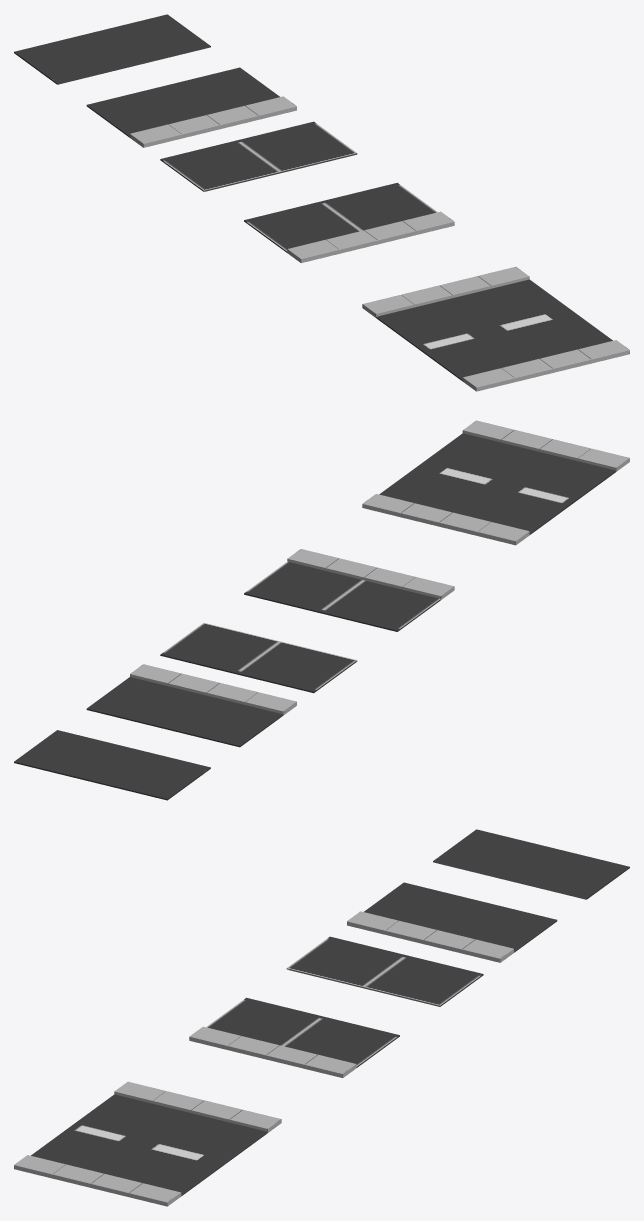
The model's file is Út & parkoló.fbx.
3 renders of one model, top to bottom at view 1: azimuth 30°, elevation 25°; view 2: azimuth 150°, elevation 25°; view 3: azimuth 330°, elevation 25°, orthographic.
Visible parts, largest first — view 1: Út test, Parkoló járda, Út jráda, Parkoló, Út; view 2: Út test, Út jráda, Parkoló járda, Parkoló, Út; view 3: Út test, Parkoló járda, Út jráda, Parkoló, Út.
Part boxes in pixels (left/top/right/bottom): Út test: left=362, top=266, right=629, bottom=391; Parkoló járda: left=244, top=182, right=454, bottom=262; Út jráda: left=86, top=67, right=296, bottom=147; Parkoló: left=160, top=121, right=357, bottom=191; Út: left=14, top=14, right=210, bottom=84; Út test: left=362, top=420, right=629, bottom=545; Út jráda: left=86, top=664, right=296, bottom=747; Parkoló járda: left=244, top=549, right=454, bottom=631; Parkoló: left=160, top=623, right=357, bottom=693; Út: left=14, top=730, right=210, bottom=800; Út test: left=14, top=1081, right=281, bottom=1206; Parkoló járda: left=189, top=997, right=399, bottom=1077; Út jráda: left=347, top=882, right=557, bottom=962; Parkoló: left=286, top=936, right=483, bottom=1006; Út: left=433, top=829, right=629, bottom=899.
Size of the model in its own units: 1195 by 31.56 by 6237.
5 materials, 5 textured.
